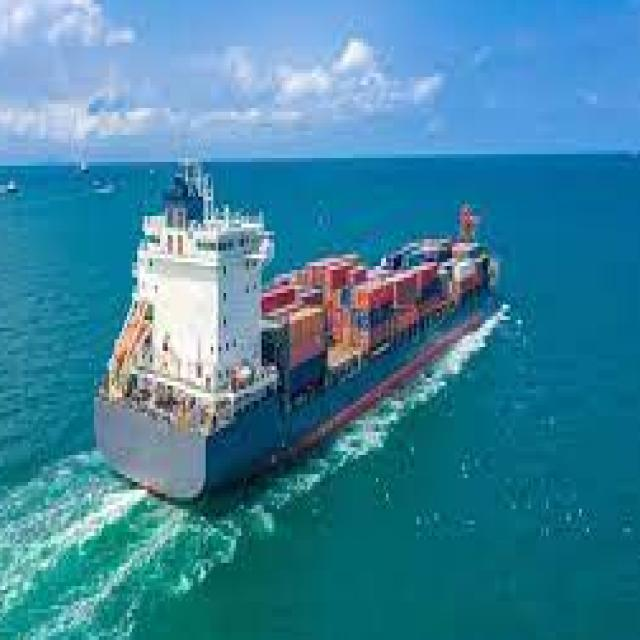cargoship: (79, 154, 505, 503)
